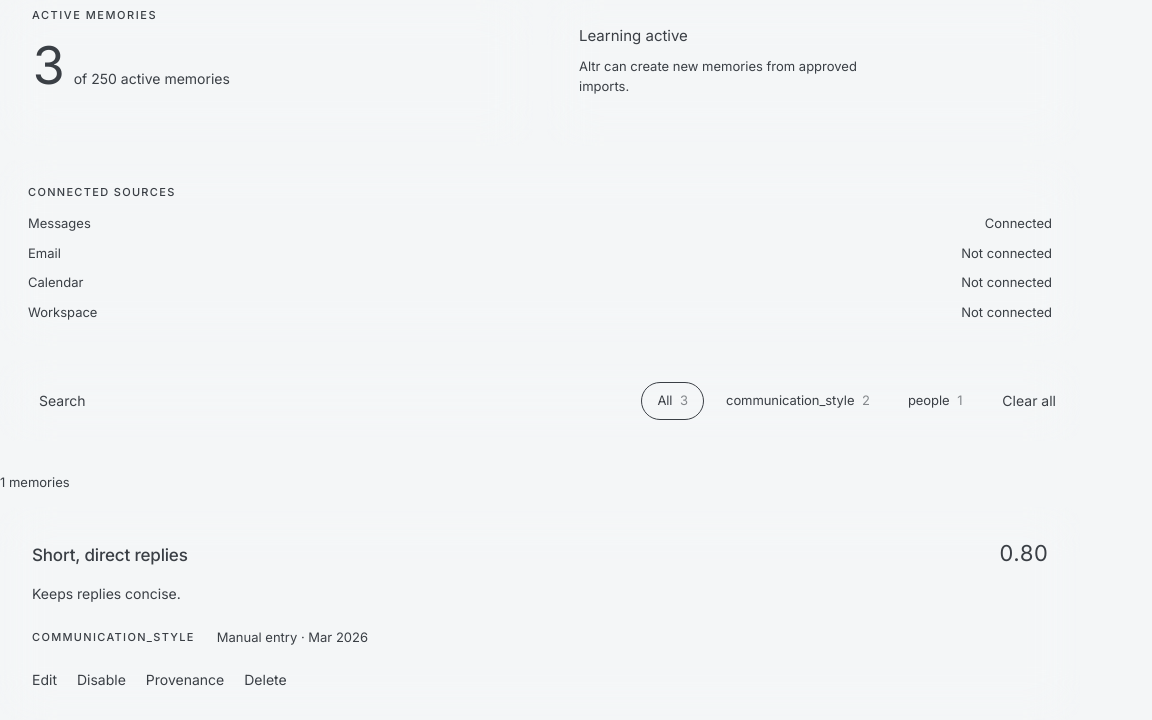
Scenario: MemoryOverview › editing a memory saves via the real PATCH endpoint and refreshes the list
(page scrolled)
Expected: the heading "Short, direct replies" is shown, [32,543,188,568]
Click the button "Edit".
click(44, 680)  # box [32,669,57,690]
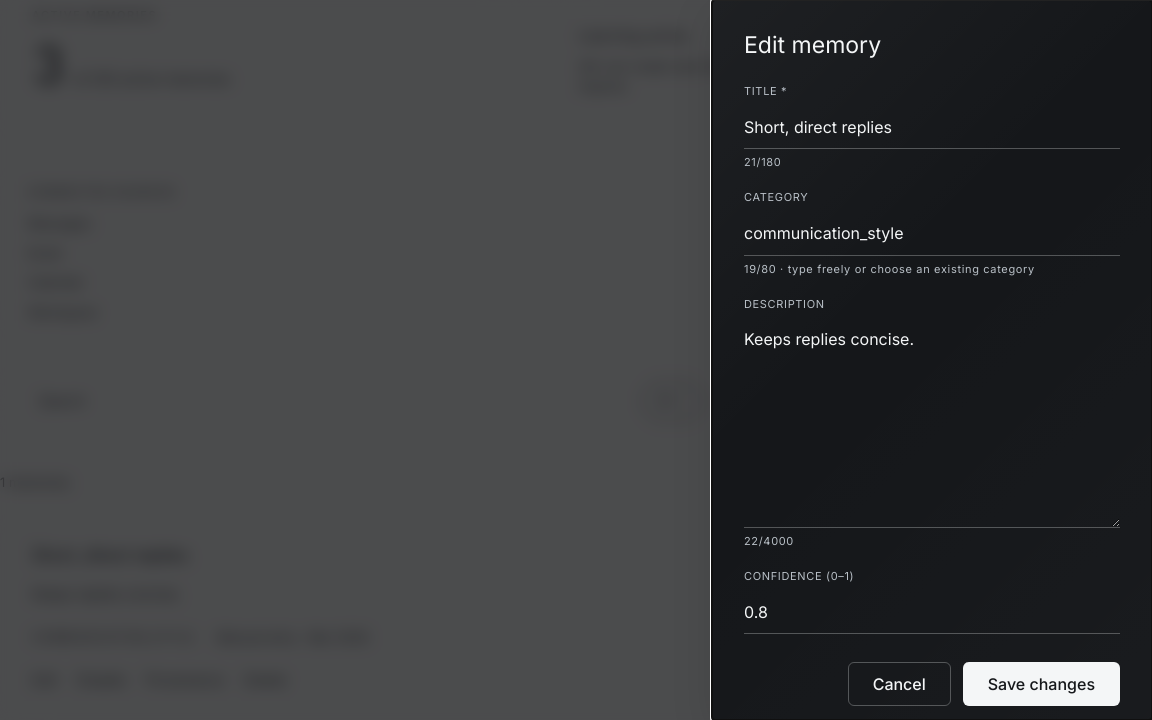
Replace the text in the field labelled "Title *" with "Updated memory" at (932, 127), box [744,105,1120,149]
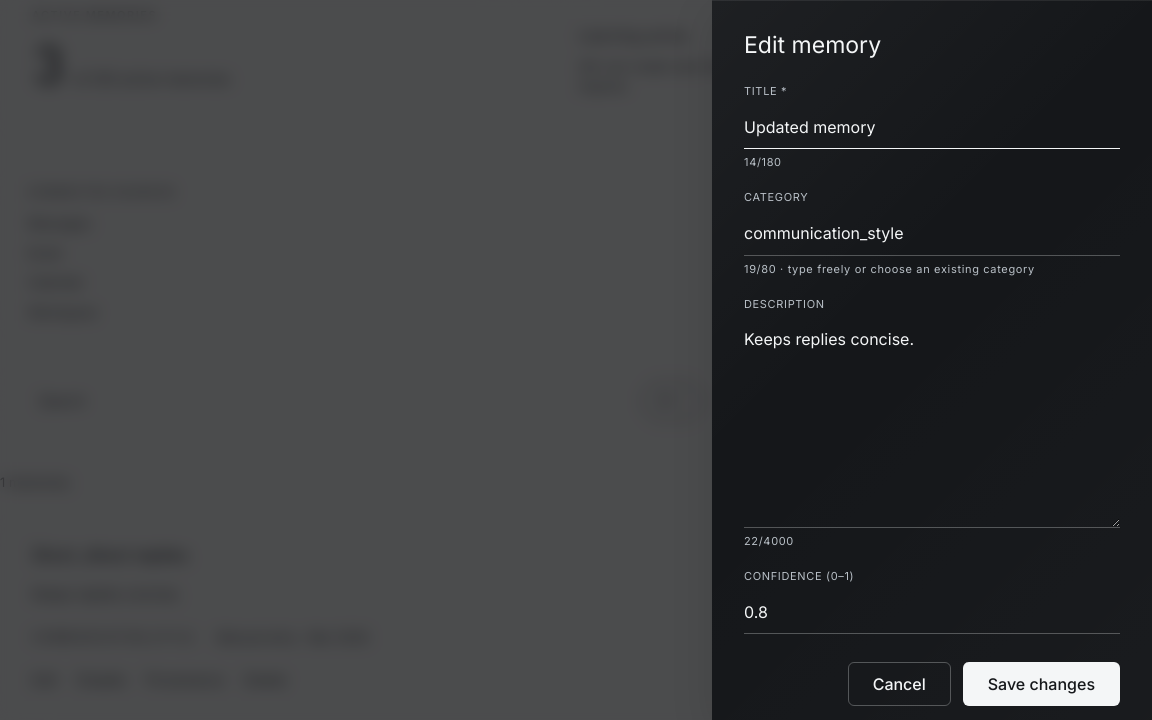
Click the button "Save changes".
click(1041, 684)  # box [963,662,1120,706]
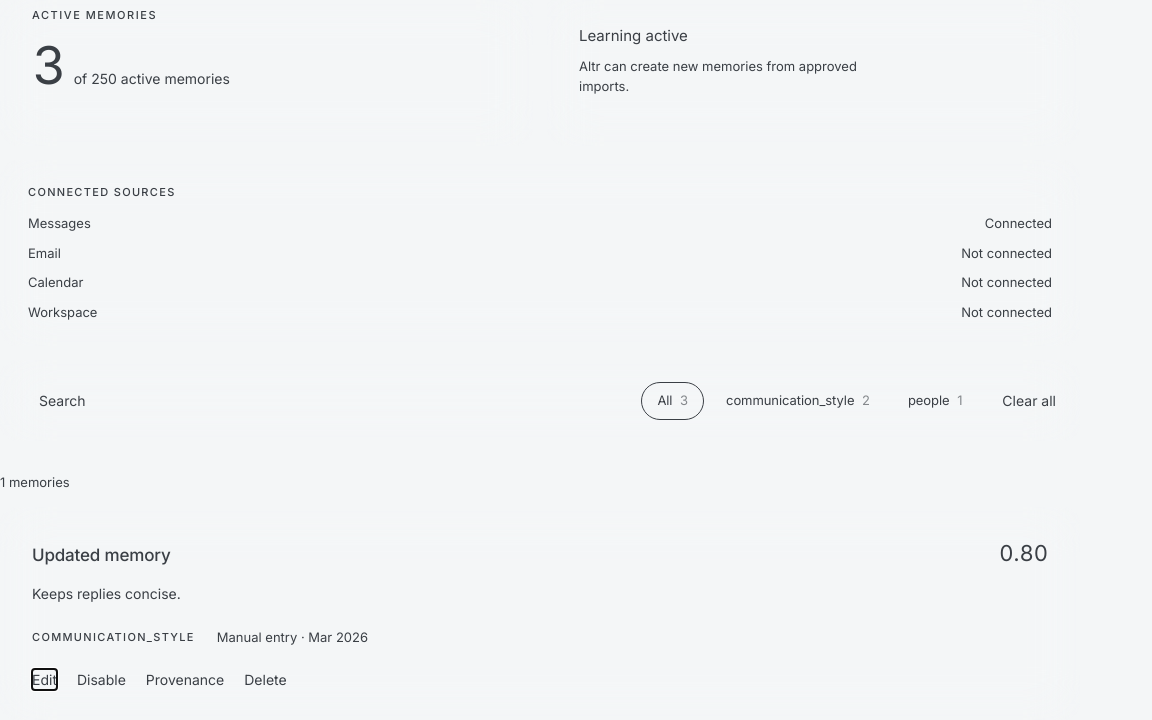
Expected: the heading "Updated memory" is shown, [32,543,171,568]
